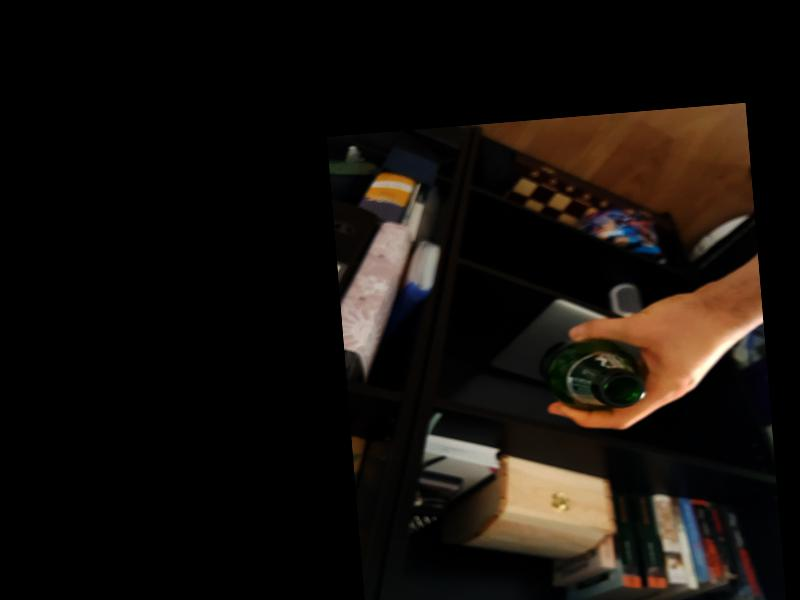Beer: (538, 331, 647, 412)
